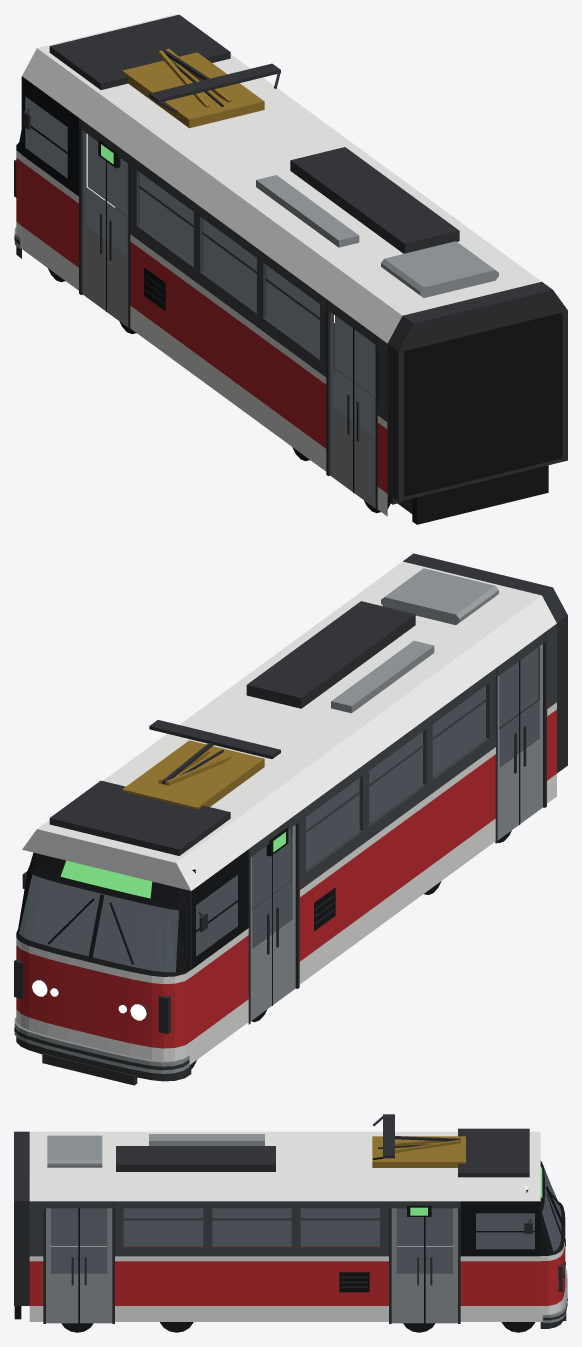
3 renders of one model, top to bottom at view 1: azimuth 30°, elevation 25°; view 2: azimuth 150°, elevation 25°; view 3: azimuth 270°, elevation 25°, orthographic. The views are drawn at different scales.
Parts seen in each view (by area): view 1: kt8d5-a; view 2: kt8d5-a; view 3: kt8d5-a.
Boxes of the visible parts, x1=… form: kt8d5-a: x1=14, y1=14, x2=567, y2=524; kt8d5-a: x1=14, y1=553, x2=567, y2=1085; kt8d5-a: x1=14, y1=1114, x2=567, y2=1332.
Size of the model in its own units: 2.62 by 3.5 by 10.05.
